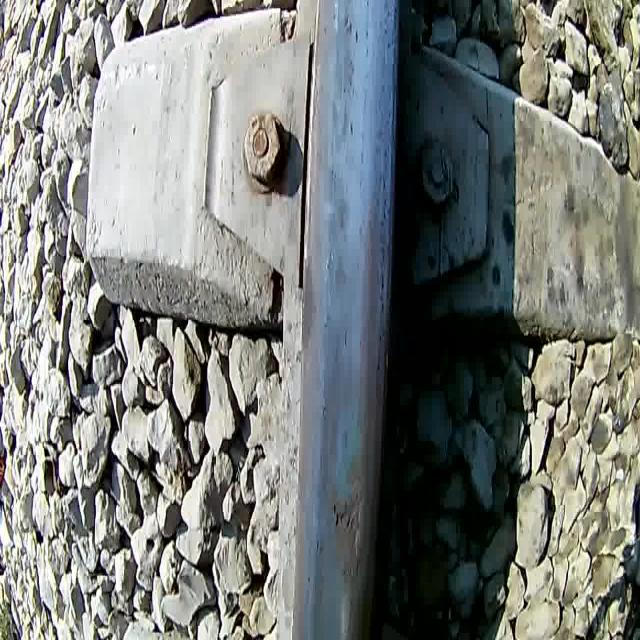Spallings: (330, 497, 355, 535)
Squats: (322, 448, 369, 594)
